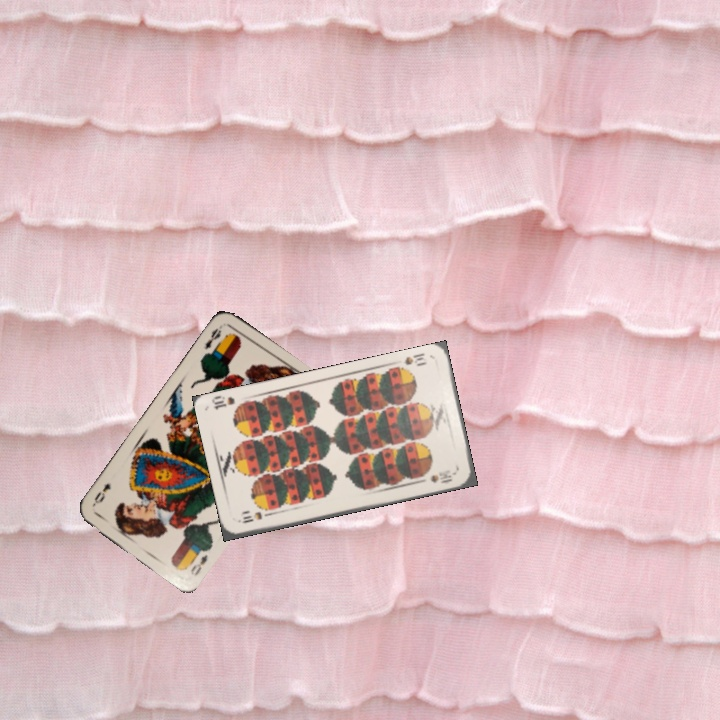EO: (201, 321, 225, 352), (186, 550, 210, 578)
S10: (234, 508, 275, 526), (400, 349, 429, 369)
